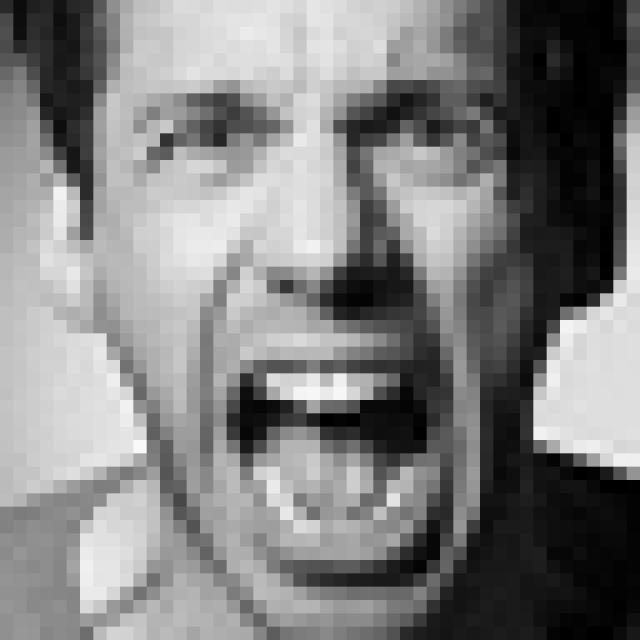angry: (132, 76, 517, 586)
